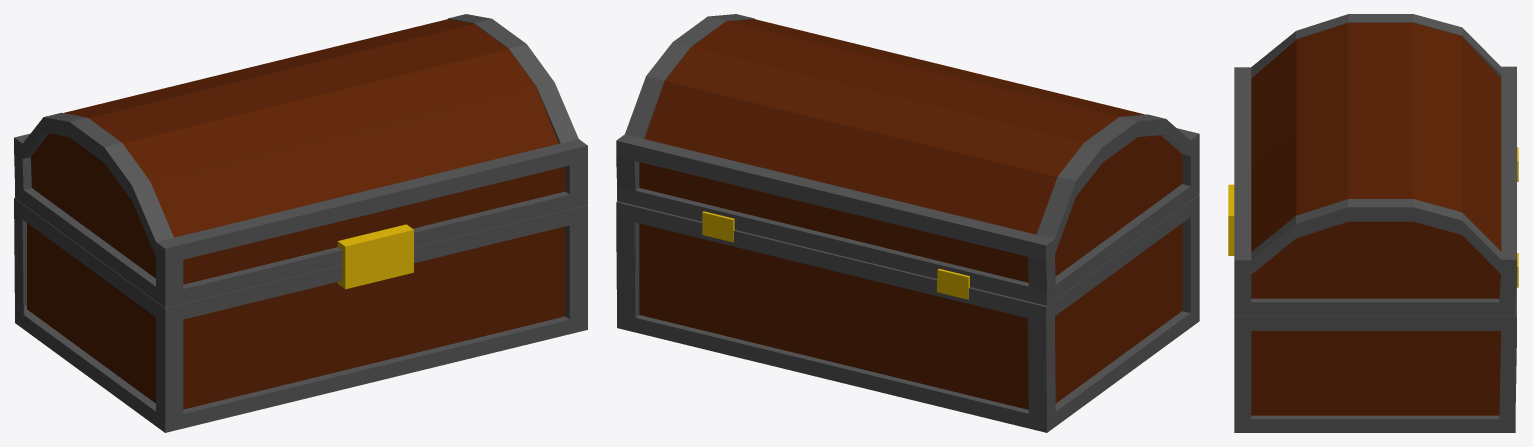
File: Chest.fbx
3 views of the same model, side by side, from view 1: azimuth 30°, elevation 25°; view 2: azimuth 150°, elevation 25°; view 3: azimuth 270°, elevation 25° (orthographic). The views are drawn at different scales.
Visible parts, largest first — view 1: Cube.001, Cube, Cube.002; view 2: Cube.001, Cube; view 3: Cube.001, Cube, Cube.002.
Boxes of the visible parts, box(x1,y1,x2,y2) form: Cube.001: box(14, 14, 587, 307); Cube: box(14, 198, 587, 432); Cube.002: box(337, 224, 413, 289); Cube.001: box(616, 14, 1199, 305); Cube: box(616, 194, 1199, 432); Cube.001: box(1234, 14, 1516, 315); Cube: box(1234, 280, 1516, 432); Cube.002: box(1228, 184, 1234, 255).
Bounding box in the file's own units: 208 × 114 × 132.
